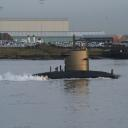submarine: (16, 35, 121, 80)
